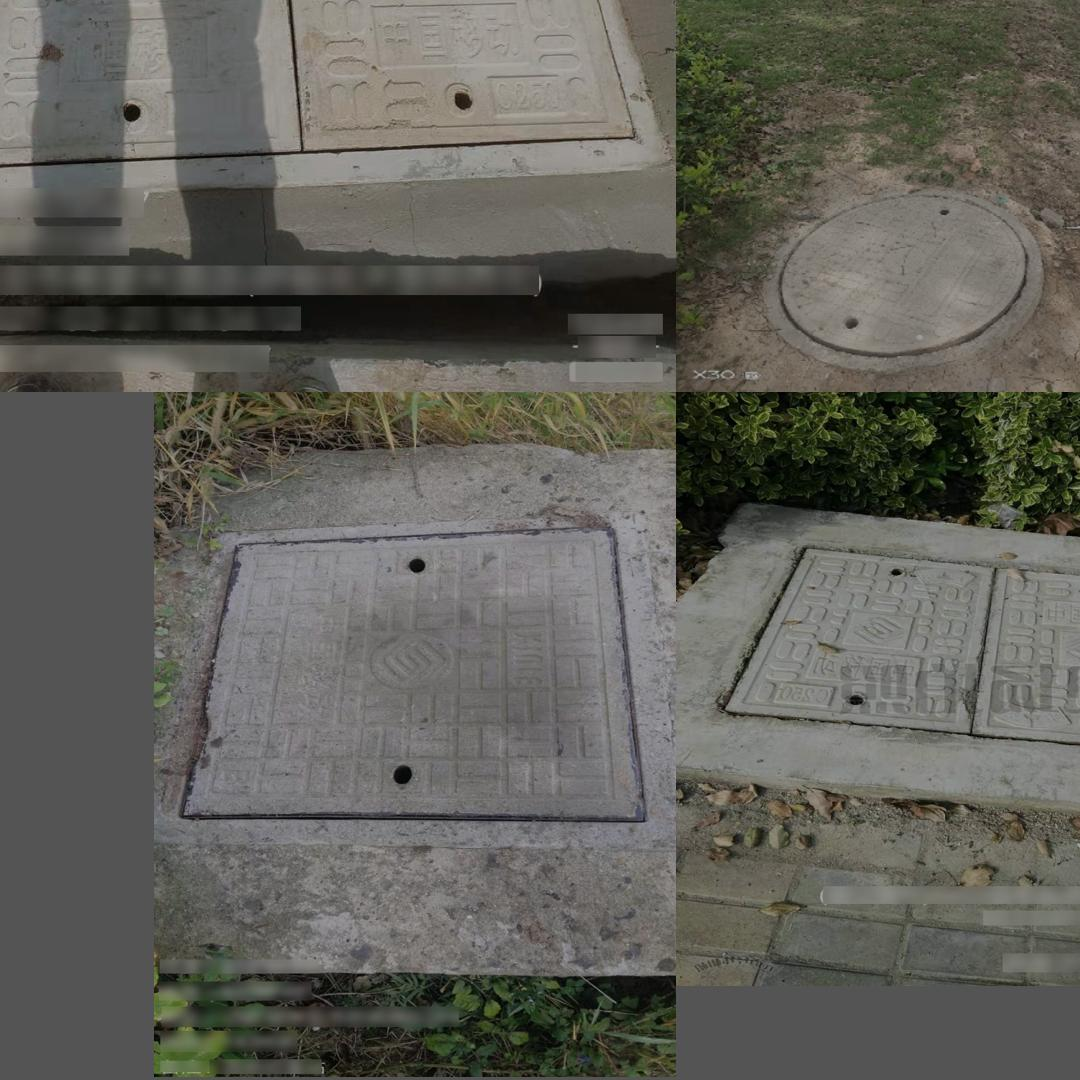good: (157, 517, 676, 852), (0, 0, 670, 205), (690, 554, 1080, 761), (762, 185, 1042, 375)
